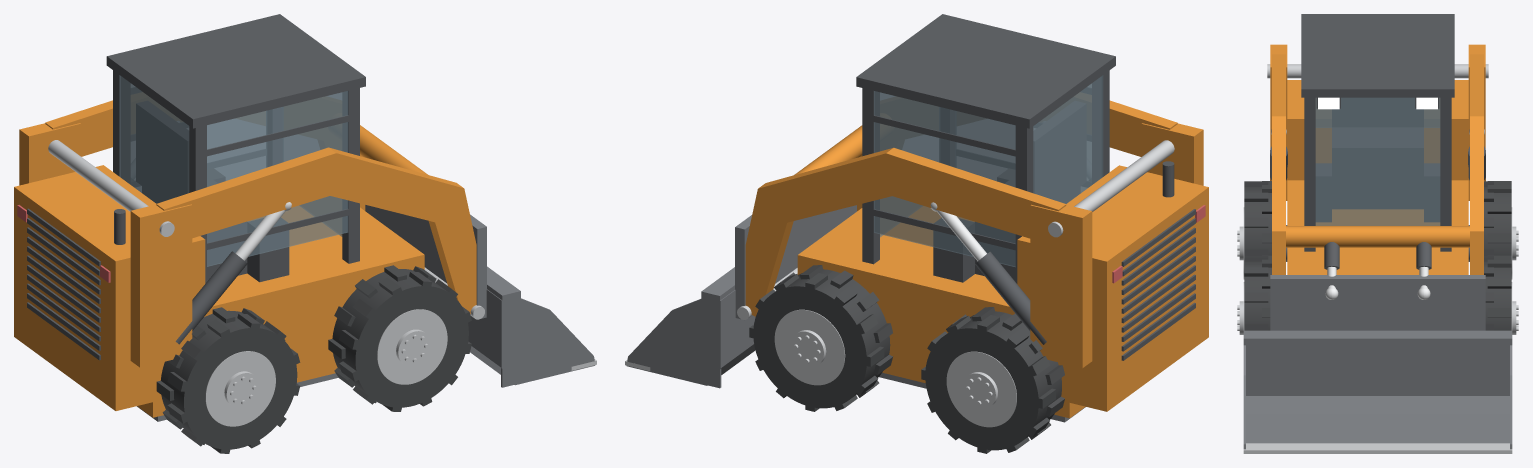
Rendered from skid-steer-loader-cad.glb.
3 views of the same model, side by side, from view 1: azimuth 30°, elevation 25°; view 2: azimuth 150°, elevation 25°; view 3: azimuth 270°, elevation 25° (orthographic). The views are drawn at different scales.
Visible parts, largest first — view 1: body, rear_grille, tyre, cab_glass, axle_hub, rim, lift_ram_rod; view 2: body, rear_grille, tyre, cab_glass, axle_hub, rim, lift_ram_rod; view 3: axle_hub, rear_grille, body, cab_glass, tyre, rim, work_lights, lift_ram_rod.
Boxes of the visible parts, x1,y1,x2,y2 form: body: [14, 100, 476, 417]; rear_grille: [27, 14, 365, 360]; tyre: [156, 265, 471, 453]; cab_glass: [119, 75, 348, 266]; axle_hub: [137, 205, 595, 421]; rim: [48, 140, 596, 426]; lift_ram_rod: [235, 202, 291, 260]; body: [745, 100, 1208, 418]; rear_grille: [856, 14, 1195, 360]; tyre: [749, 265, 1064, 453]; cab_glass: [874, 75, 1103, 267]; axle_hub: [627, 205, 1085, 422]; rim: [625, 140, 1174, 427]; lift_ram_rod: [930, 202, 986, 261]; axle_hub: [1243, 225, 1512, 449]; rear_grille: [1270, 14, 1485, 269]; body: [1270, 44, 1485, 274]; cab_glass: [1315, 97, 1440, 225]; tyre: [1244, 181, 1511, 330]; rim: [1237, 64, 1518, 453]; work_lights: [1318, 97, 1437, 109]; lift_ram_rod: [1271, 129, 1484, 299].
Bounding box in the file's own units: 3.07 × 2.01 × 1.83.
